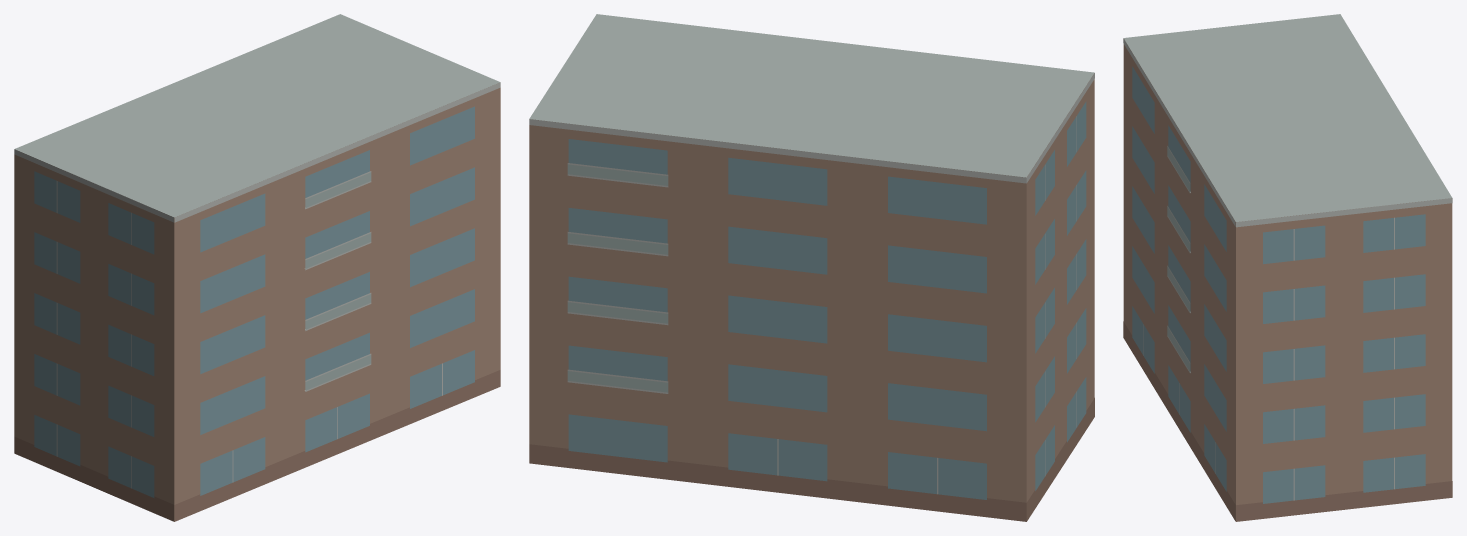
File: survey-upis-32997669.glb
3 renders of one model, left to right at view 1: azimuth 30°, elevation 25°; view 2: azimuth 150°, elevation 25°; view 3: azimuth 270°, elevation 25°, orthographic. The views are drawn at different scales.
Parts seen in each view (by area): view 1: survey-upis-32997669.tmp; view 2: survey-upis-32997669.tmp; view 3: survey-upis-32997669.tmp.
Boxes of the visible parts, x1,y1,x2,y2 form: survey-upis-32997669.tmp: (14,14,500,521); survey-upis-32997669.tmp: (529,14,1094,521); survey-upis-32997669.tmp: (1123,14,1452,521).
Bounding box in the file's own units: 20.94 × 14.05 × 13.99.
